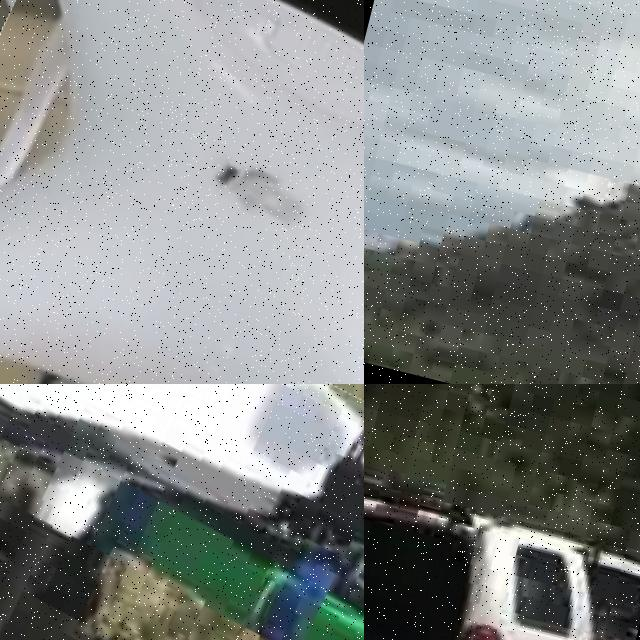0: (0, 384, 364, 640)
drone: (0, 0, 364, 384)
